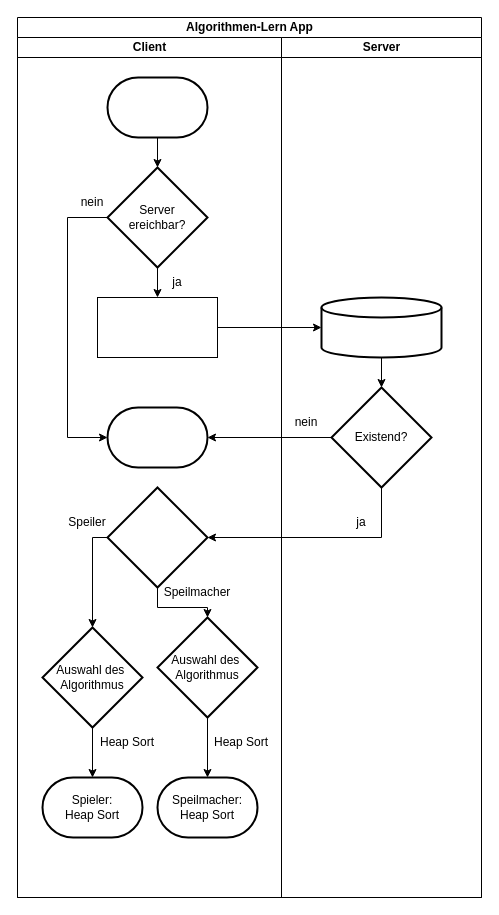
Some shapes in this 499 by 915 pixel diagram are drawn without their labels. Here are the shapes that lost their labels. From the top down, the centre of each, then its label:
At (x=157, y=107): "Start der App".
At (x=157, y=327): "Anmelden".
At (x=381, y=327): "Account prüfuen".
At (x=157, y=437): "Offline-Spieler".
At (x=157, y=537): "Auswahl: - Speilmacher - Spieler".
